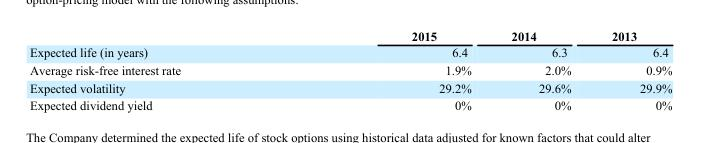table: (28, 28, 671, 112)
table column: (28, 28, 295, 112), (295, 28, 490, 112), (490, 28, 590, 112), (590, 28, 671, 112)
table column header: (28, 28, 671, 43)
table row: (28, 60, 671, 78), (28, 78, 671, 96), (28, 43, 671, 60), (28, 96, 671, 112), (28, 28, 671, 43)
